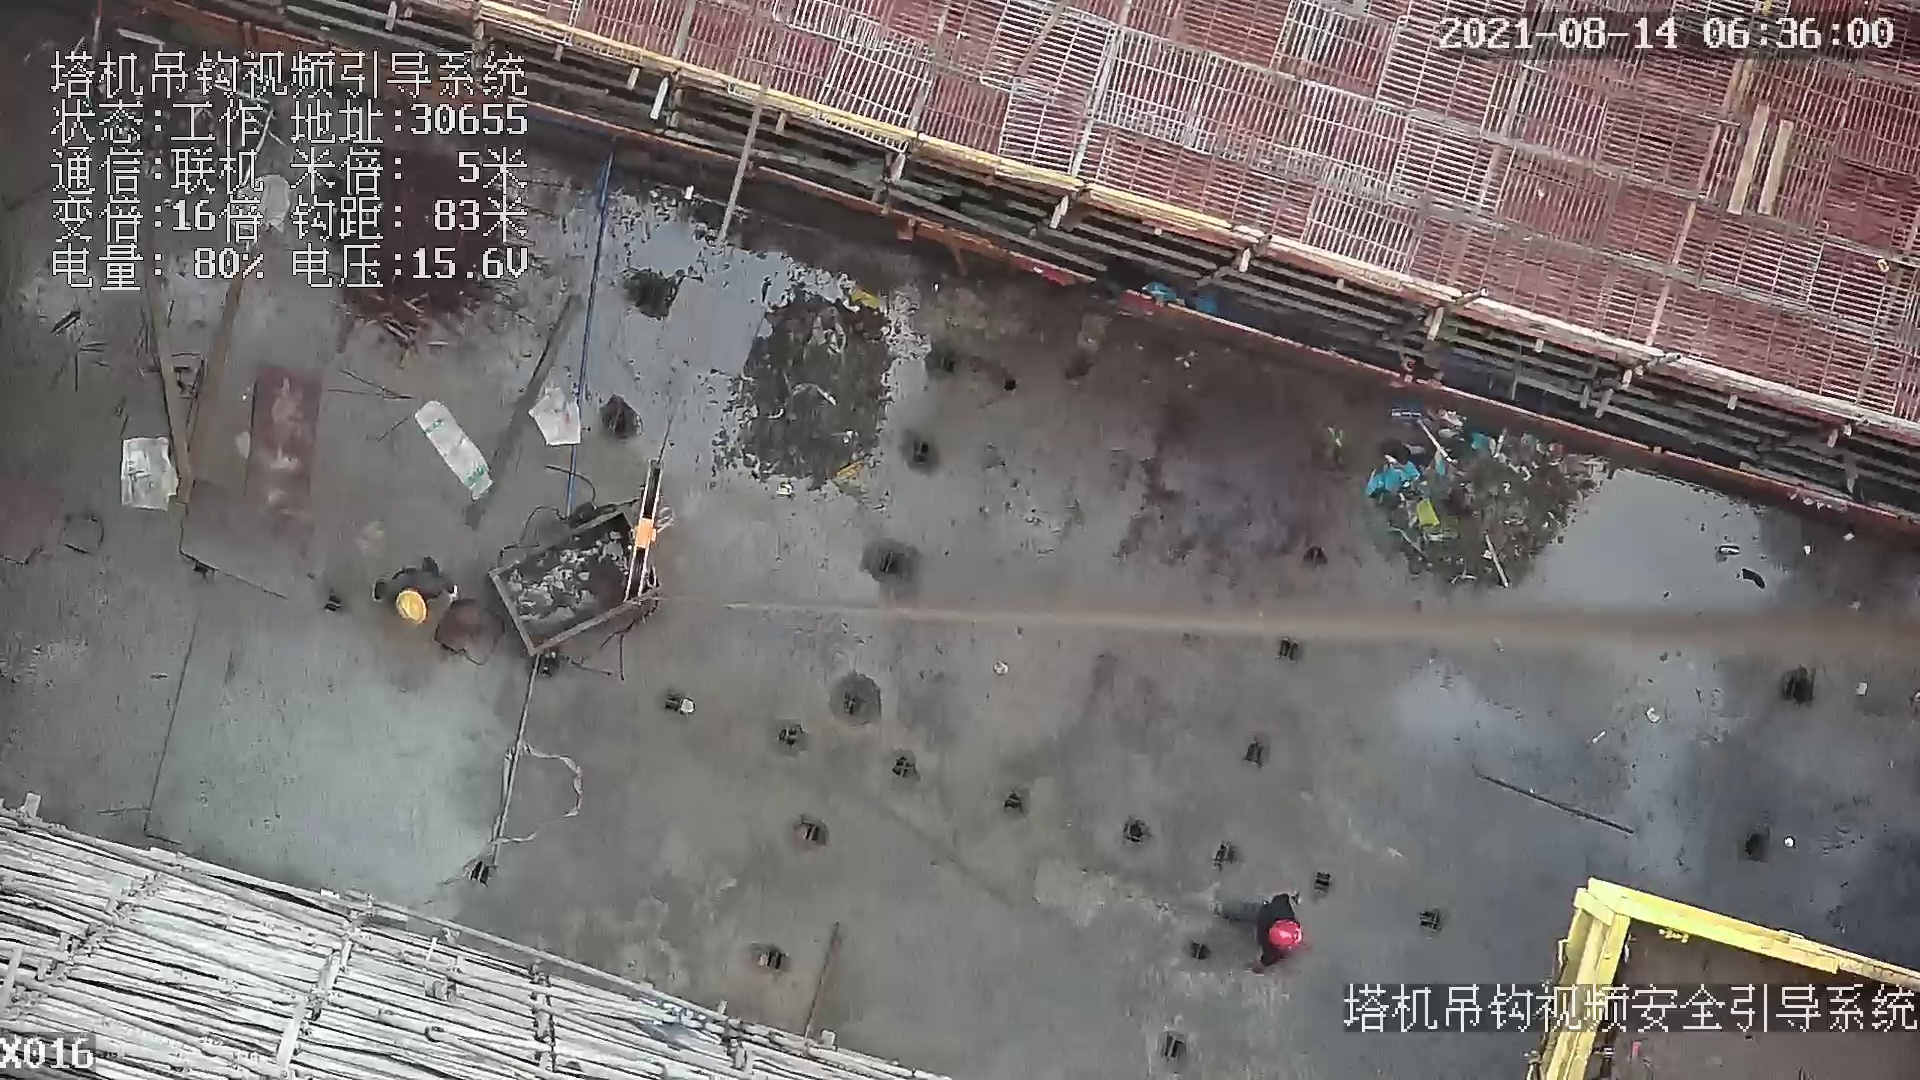helmet: (1264, 910, 1305, 960), (394, 591, 432, 630)
hook: (617, 447, 673, 608)
hopper: (476, 492, 667, 683)
person: (1209, 880, 1306, 977), (363, 554, 462, 628)
